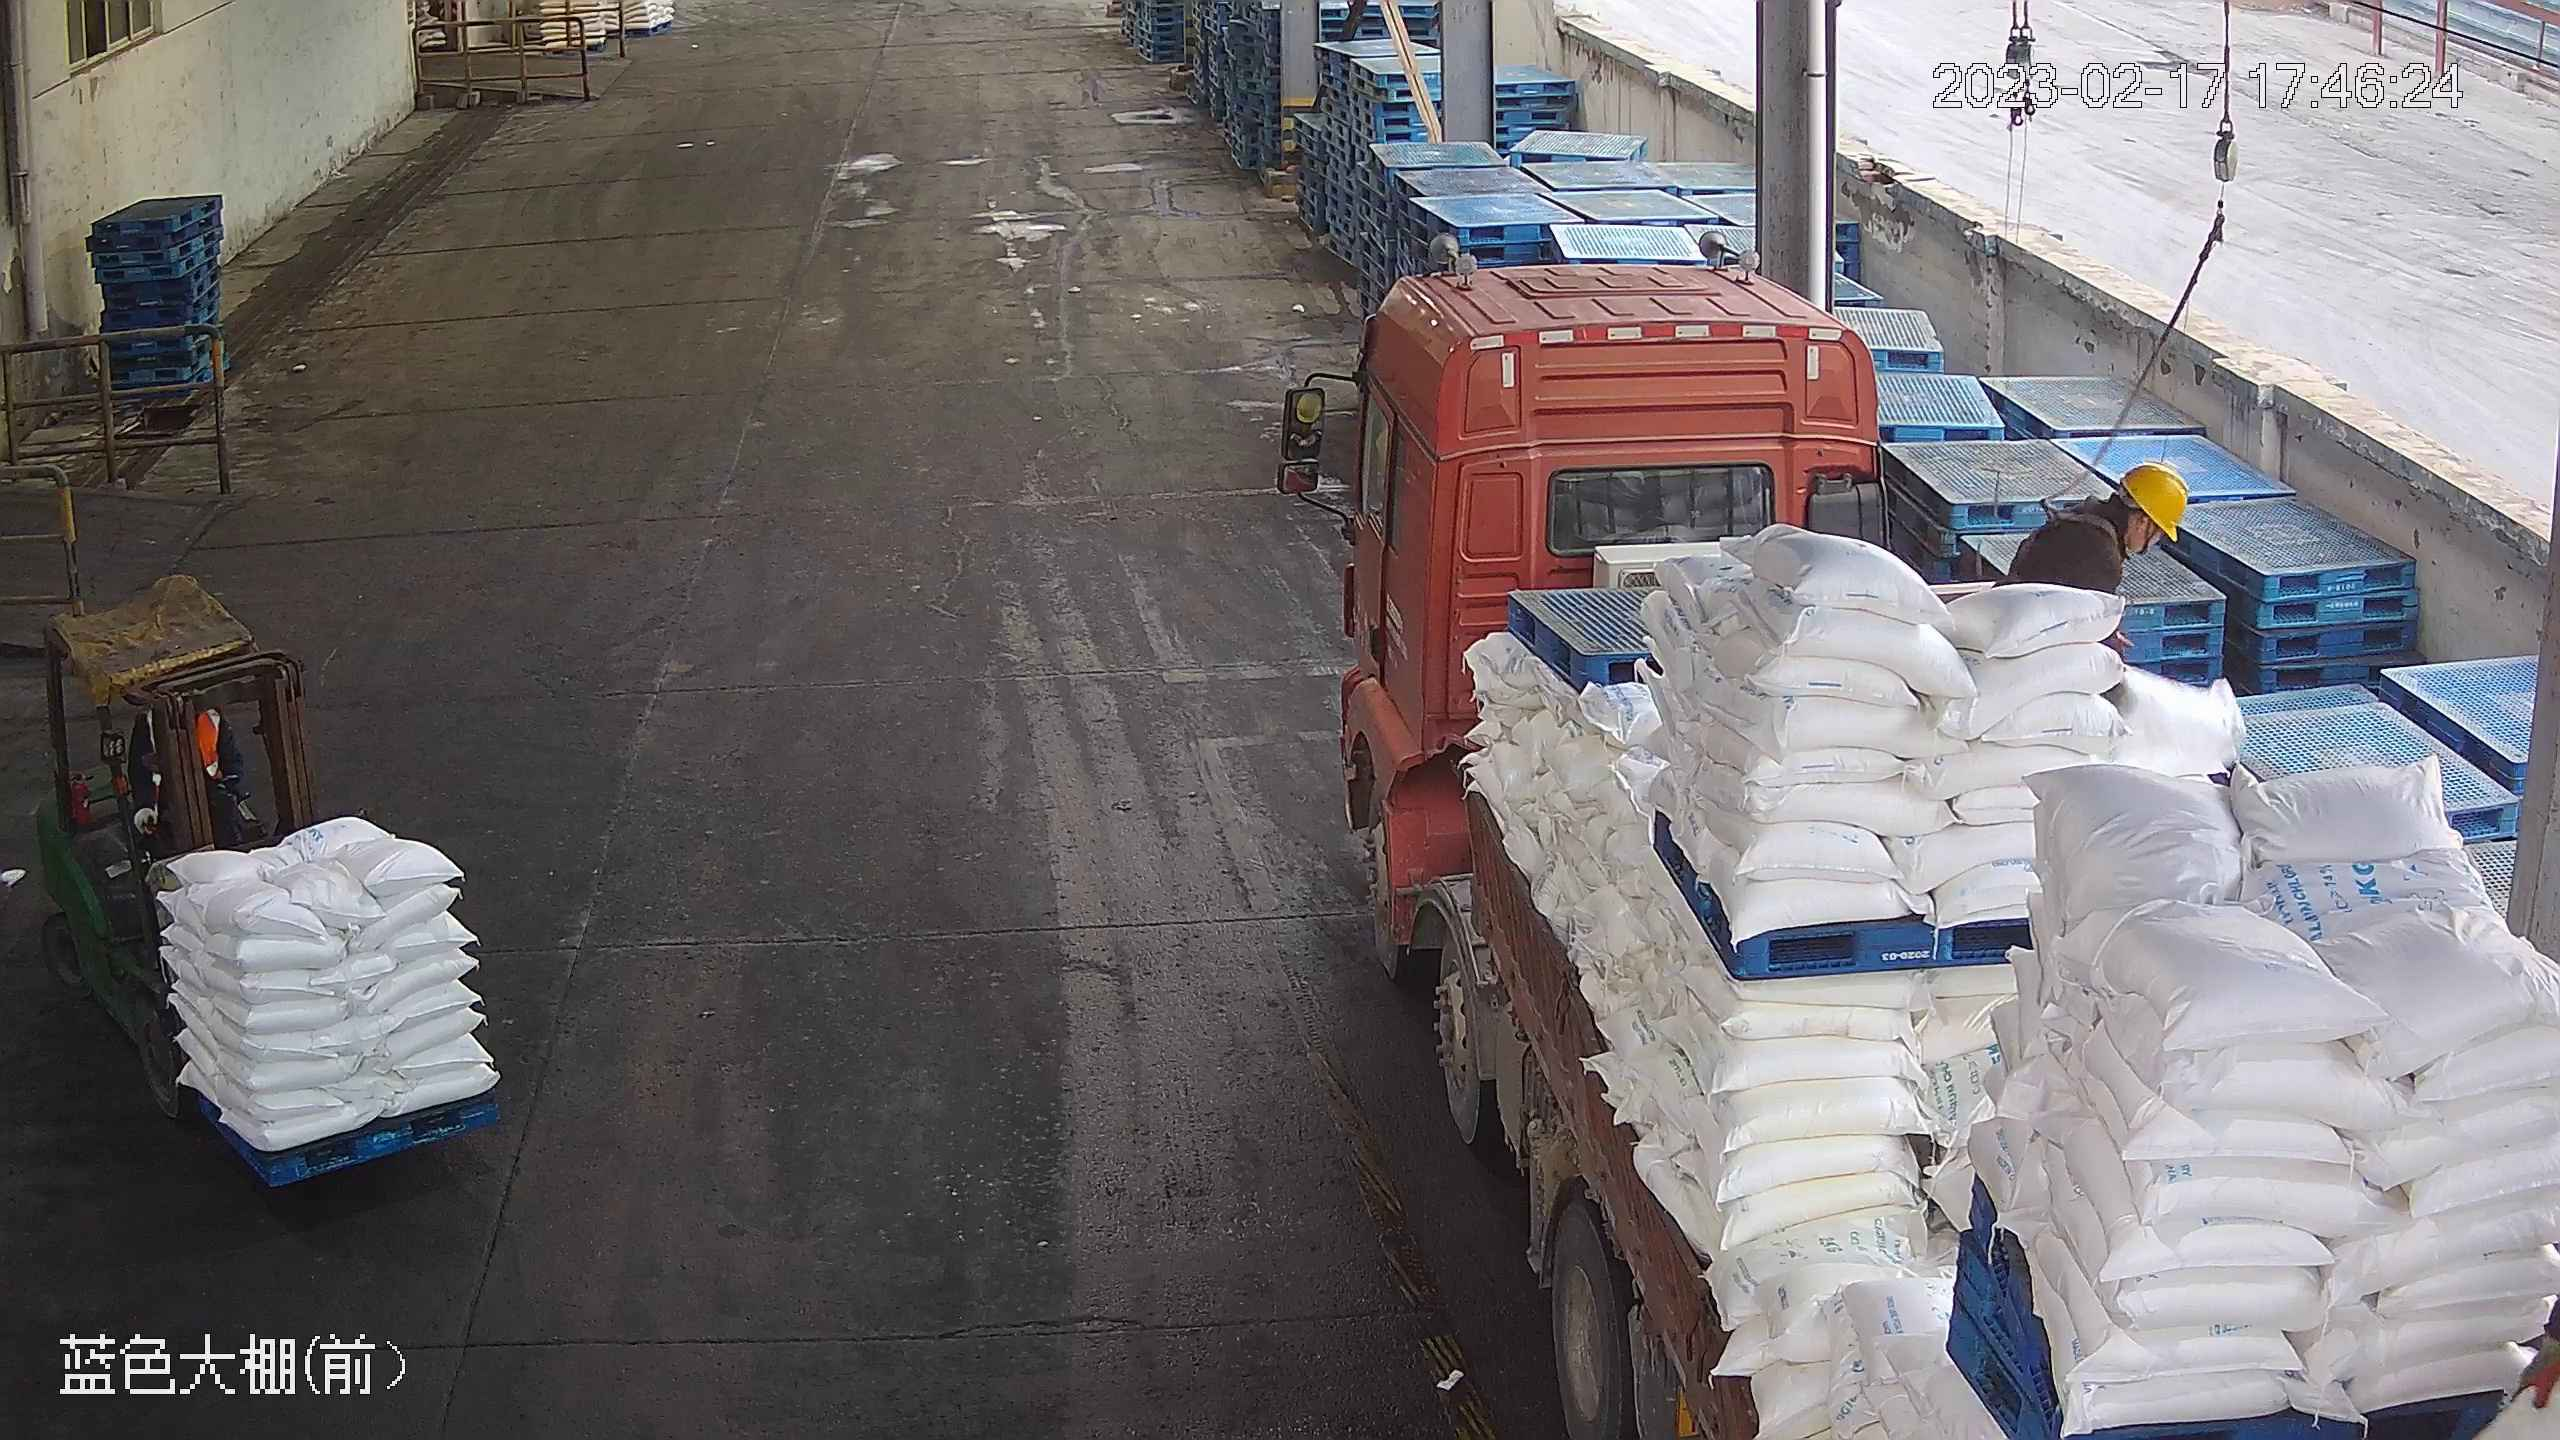belt: (2043, 498, 2122, 586)
head: (2037, 457, 2190, 582)
helmet: (2117, 456, 2196, 539)
truck: (1292, 265, 2560, 1440)
